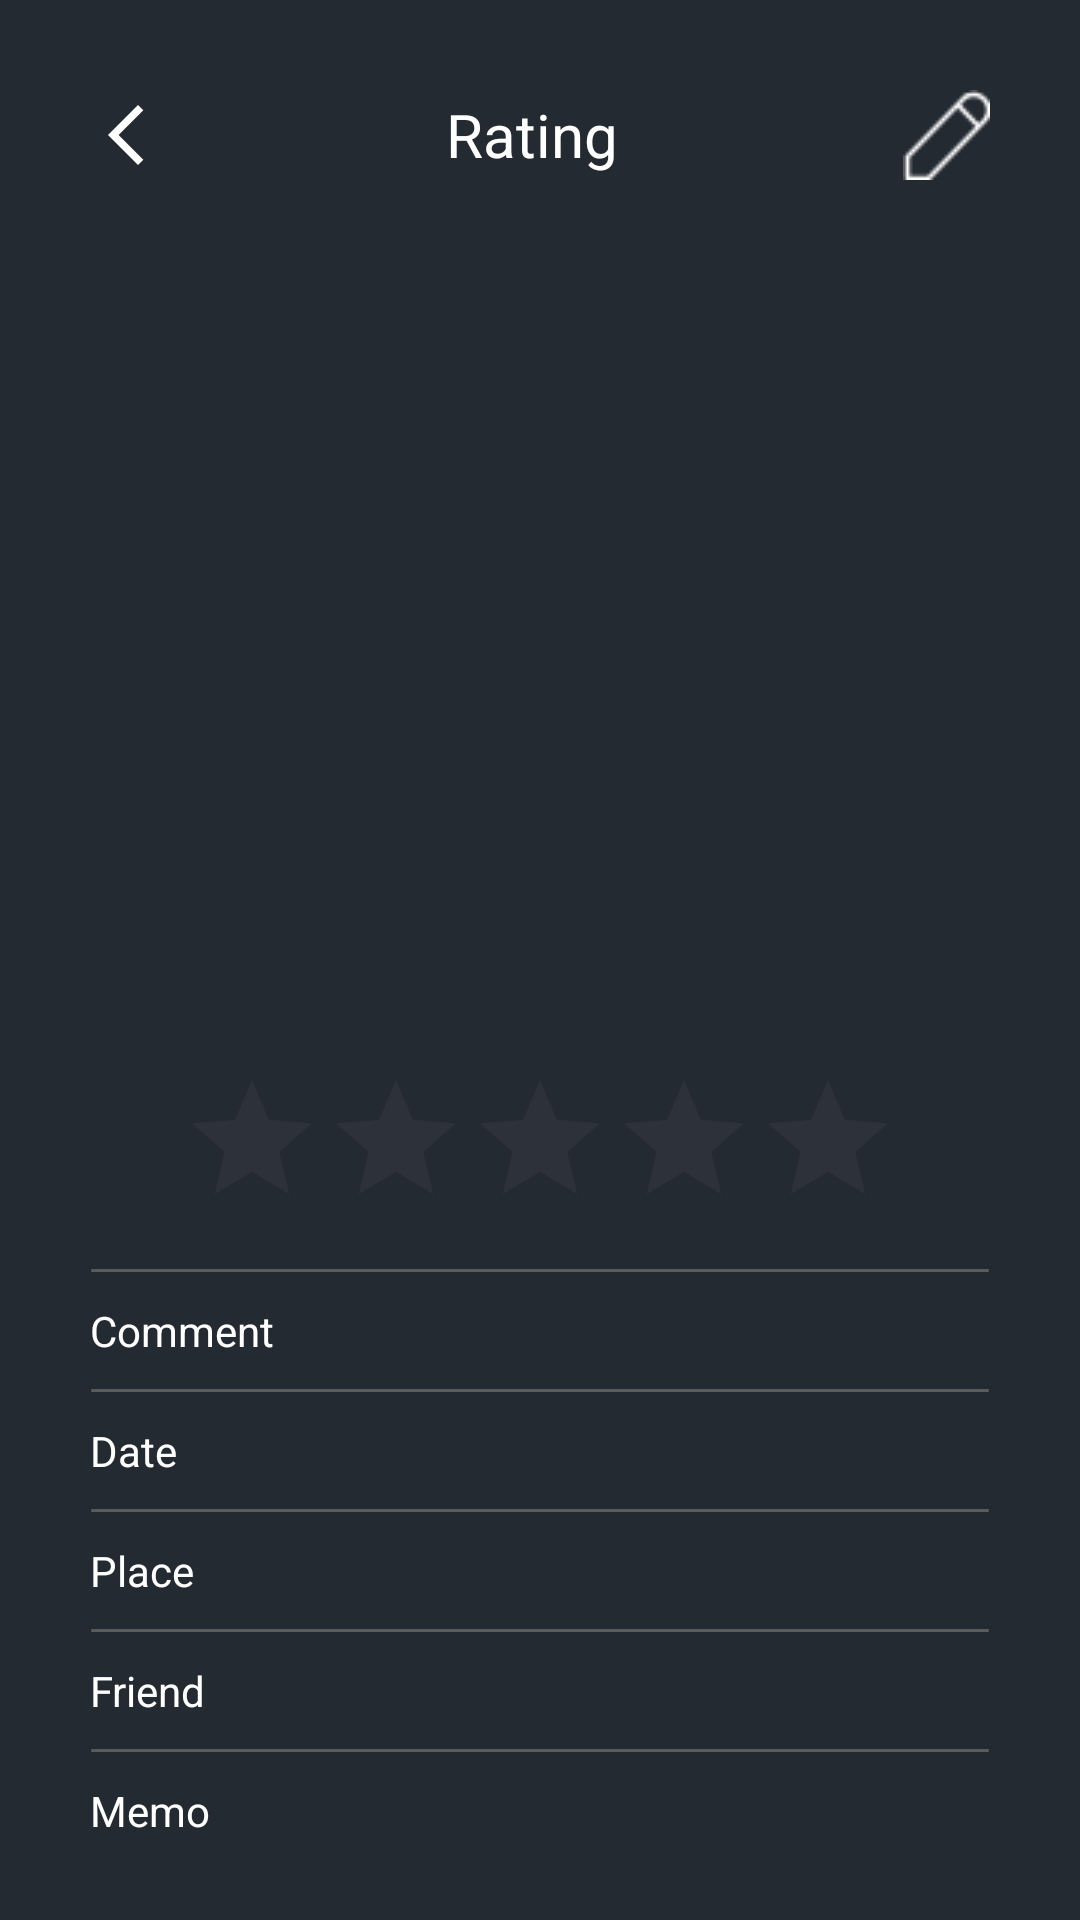

Named icons in this screenshot (1080 x 1920) and their centers, point (x, y):
arrow back: point (125, 135)
